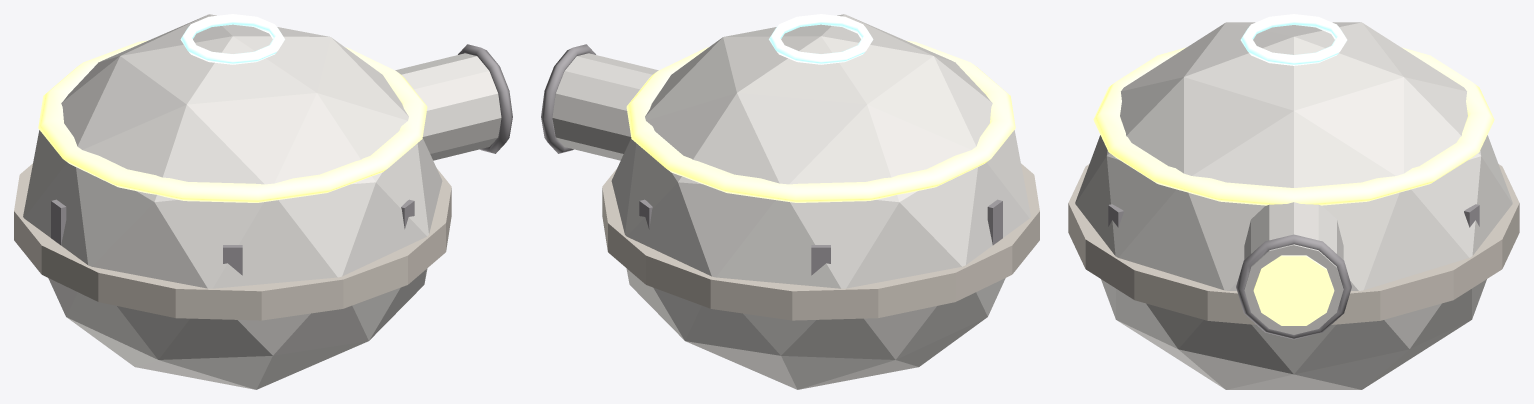
Rendered from habitat_dome.glb.
3 views of the same model, side by side, from view 1: azimuth 30°, elevation 25°; view 2: azimuth 150°, elevation 25°; view 3: azimuth 270°, elevation 25° (orthographic). The views are drawn at different scales.
Visible parts, largest first — view 1: dome, base, window_band, airlock, top_light, airlock_ring, fin.003, fin.004; view 2: dome, base, window_band, airlock, top_light, airlock_ring, fin.003, fin.002; view 3: dome, base, window_band, airlock, door, airlock_ring, top_light.
Boxes of the visible parts, bbox=[...] form: dome: bbox=[23, 14, 442, 389]; base: bbox=[14, 163, 451, 320]; window_band: bbox=[38, 40, 427, 202]; airlock: bbox=[395, 53, 501, 160]; top_light: bbox=[180, 14, 284, 64]; airlock_ring: bbox=[458, 44, 512, 153]; fin.003: bbox=[51, 199, 66, 245]; fin.004: bbox=[223, 245, 242, 275]; dome: bbox=[611, 14, 1030, 389]; base: bbox=[602, 163, 1039, 320]; window_band: bbox=[626, 40, 1015, 202]; airlock: bbox=[552, 53, 658, 160]; top_light: bbox=[769, 14, 873, 64]; airlock_ring: bbox=[541, 44, 595, 153]; fin.003: bbox=[987, 199, 1002, 245]; fin.002: bbox=[811, 245, 830, 275]; dome: bbox=[1075, 22, 1512, 389]; base: bbox=[1068, 164, 1519, 324]; window_band: bbox=[1093, 47, 1494, 205]; airlock: bbox=[1244, 202, 1343, 334]; door: bbox=[1253, 255, 1334, 325]; airlock_ring: bbox=[1236, 234, 1351, 339]; top_light: bbox=[1240, 14, 1347, 65].
Bounding box in the file's own units: 14.42 × 10.25 × 12.3.
